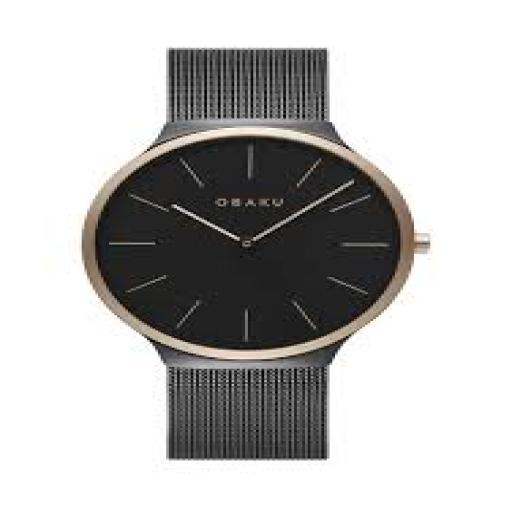KolSaati: (57, 31, 421, 476)
